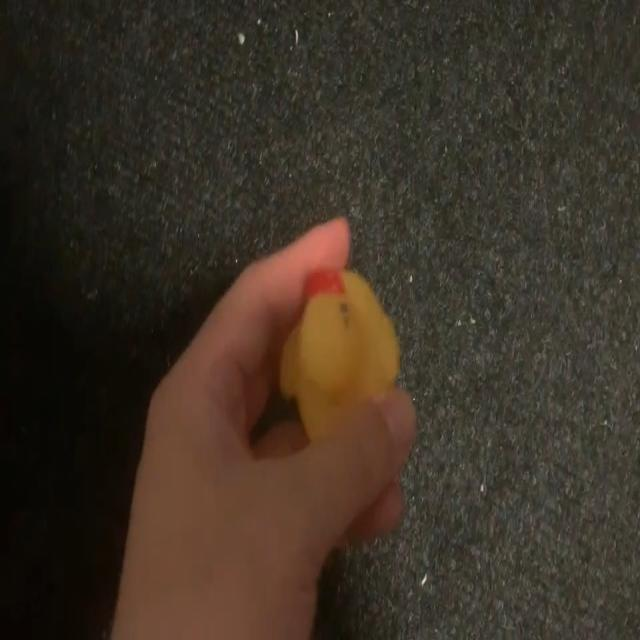rubber-duck: (279, 269, 397, 437)
